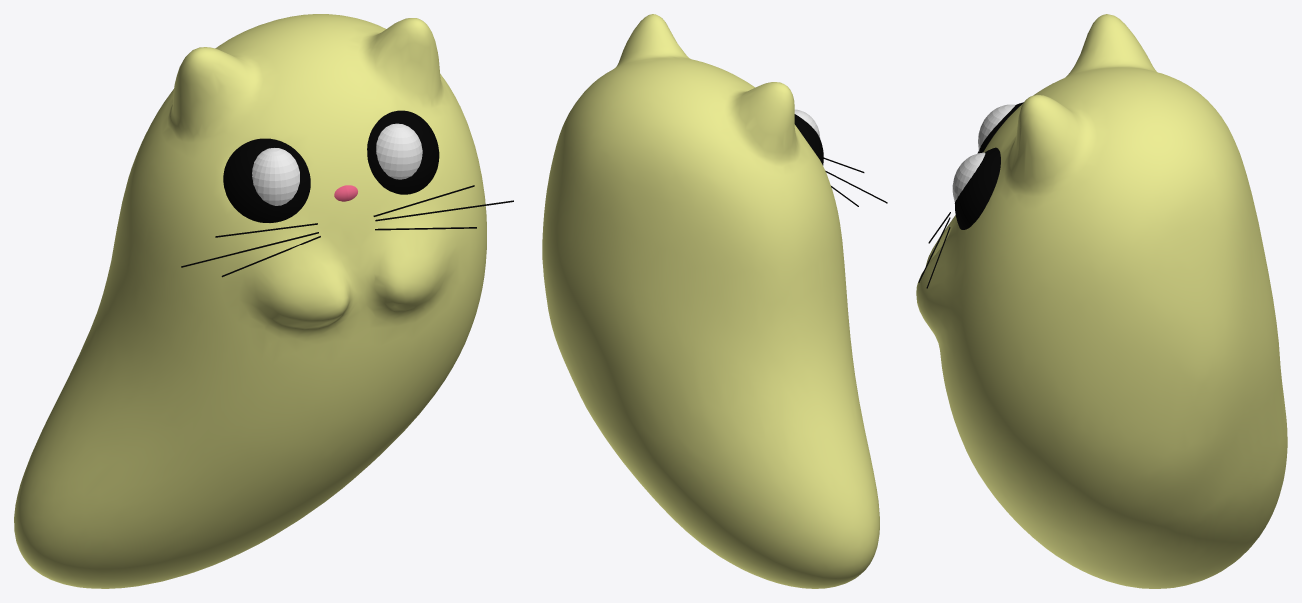
Rendered from catenemyfly.fbx.
The picture shows the model from 3 angles, left to right: view 1: azimuth 30°, elevation 25°; view 2: azimuth 150°, elevation 25°; view 3: azimuth 270°, elevation 25°; orthographic projection. The views are drawn at different scales.
Visible parts, largest first — view 1: Body, Pupils, Eye.l, Eye.R, Whiskers; view 2: Body, Eye.l; view 3: Body, Eye.R, Pupils.
Part boxes in pixels (box(x1,y1,x2,y2)): Body: box(14, 14, 486, 588); Pupils: box(252, 123, 422, 205); Eye.l: box(223, 138, 310, 222); Eye.R: box(367, 110, 439, 194); Whiskers: box(181, 185, 513, 277); Body: box(542, 14, 879, 588); Eye.l: box(794, 114, 823, 165); Body: box(916, 14, 1287, 588); Eye.R: box(954, 147, 1000, 229); Pupils: box(952, 104, 1015, 201).
Bounding box in the file's own units: 4882 × 6406 × 3673.
